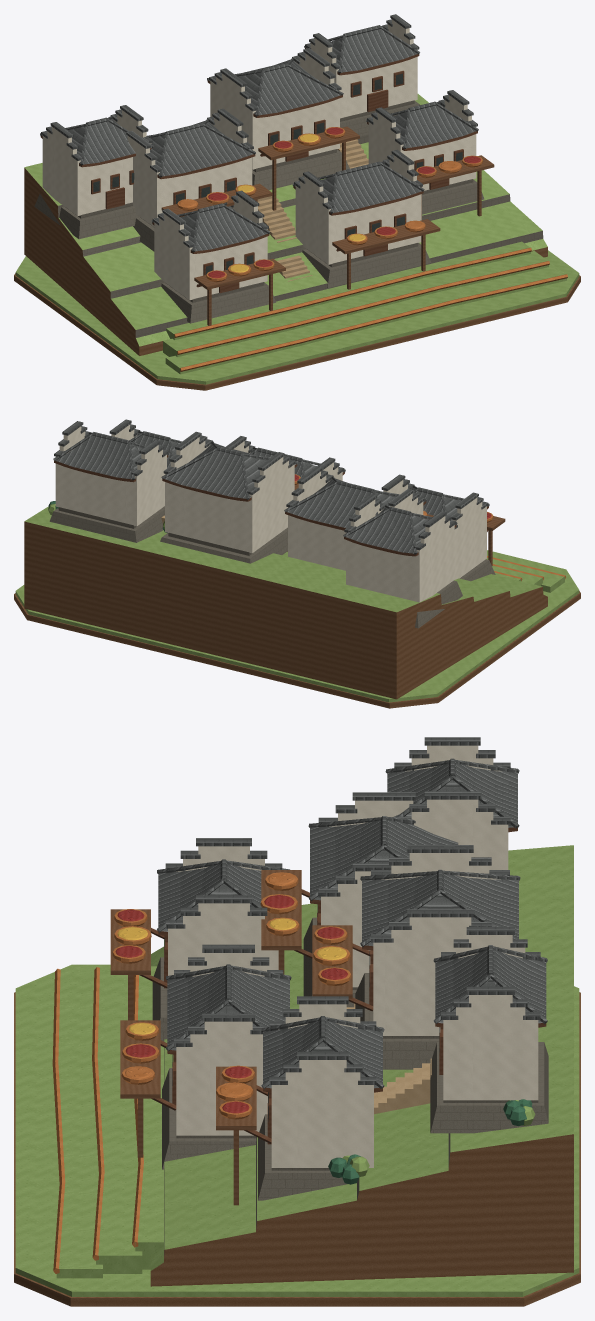
The model's file is huangling.glb.
3 renders of one model, top to bottom at view 1: azimuth 30°, elevation 25°; view 2: azimuth 150°, elevation 25°; view 3: azimuth 270°, elevation 25°, orthographic. The views are drawn at different scales.
Visible parts, largest first — view 1: 婺源篁岭; view 2: 婺源篁岭; view 3: 婺源篁岭.
Part boxes in pixels (x1,y1,x2,y2): 婺源篁岭: (14, 14, 580, 390); 婺源篁岭: (14, 419, 580, 708); 婺源篁岭: (14, 737, 580, 1306).
Bounding box in the file's own units: 13.46 × 5.35 × 9.8.
Materials: 13 (13 with a texture image).
